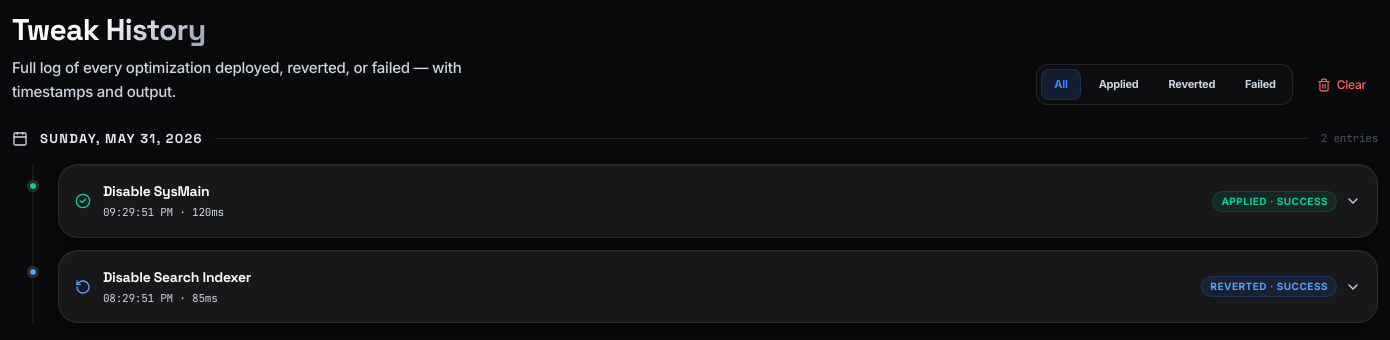
it: HistoryPage › Applied filter shows only APPLIED entries
expect the heading "Disable SysMain" is shown: met, box left=103, top=181, right=224, bottom=202
Click the button "Applied". click: x=1119, y=85
box: left=1087, top=69, right=1150, bottom=100
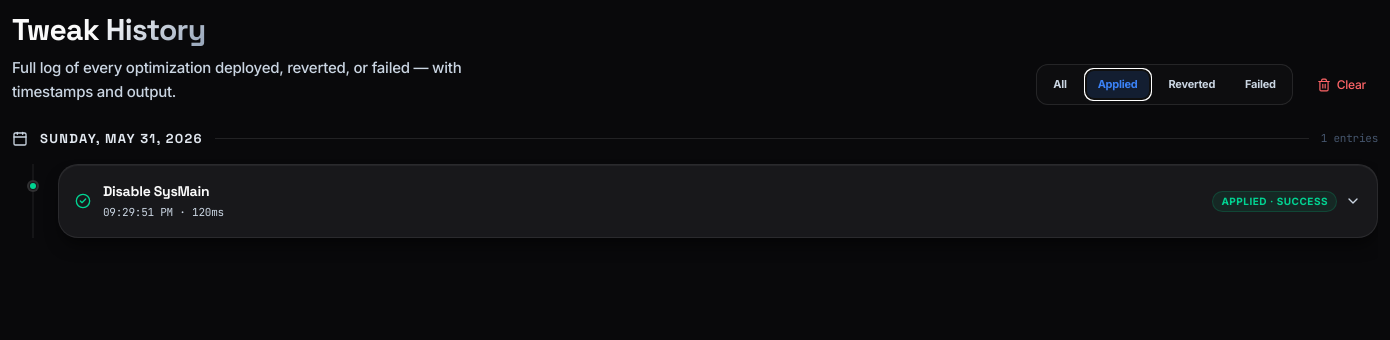
expect the heading "Disable SysMain" is shown: met, box left=103, top=181, right=224, bottom=202
expect the heading "Disable Search Indexer" is gone: met
